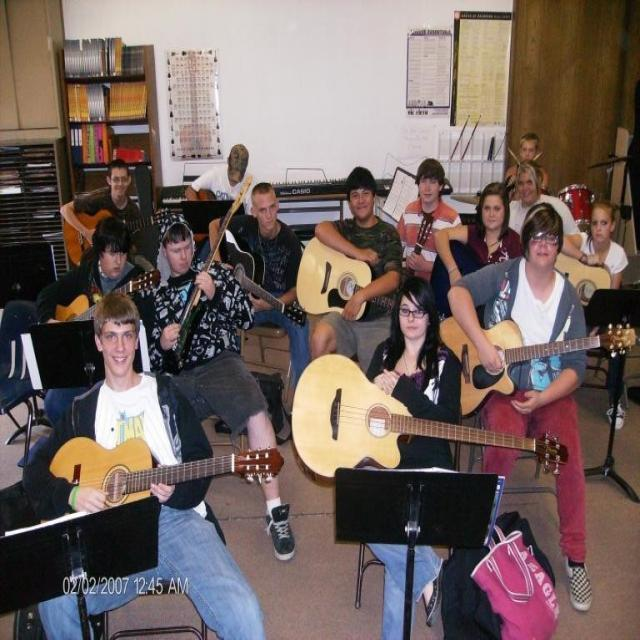guitar: (290, 350, 571, 489), (48, 433, 285, 534), (434, 310, 638, 418), (158, 174, 257, 371), (214, 220, 307, 334), (295, 229, 405, 316), (50, 267, 163, 332), (62, 205, 173, 258)
